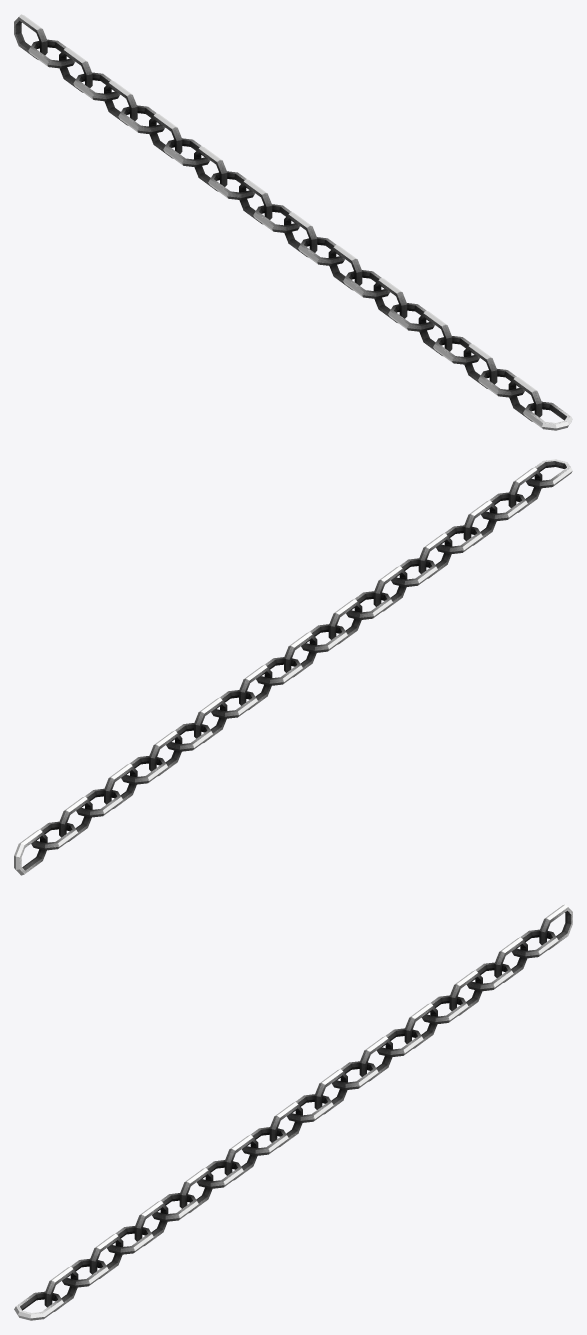
Rendered from obj_chain.obj.
3 renders of one model, top to bottom at view 1: azimuth 30°, elevation 25°; view 2: azimuth 150°, elevation 25°; view 3: azimuth 330°, elevation 25°, orthographic.
Parts seen in each view (by area): view 1: Torus.002_Torus.016; view 2: Torus.002_Torus.016; view 3: Torus.002_Torus.016.
Part boxes in pixels (<box>): Torus.002_Torus.016: <box>14,14,572,430</box>; Torus.002_Torus.016: <box>14,459,572,875</box>; Torus.002_Torus.016: <box>14,904,572,1320</box>.
Size of the model in its own units: 2.31 by 2.31 by 70.51.
Materials: 1 (1 with a texture image).
